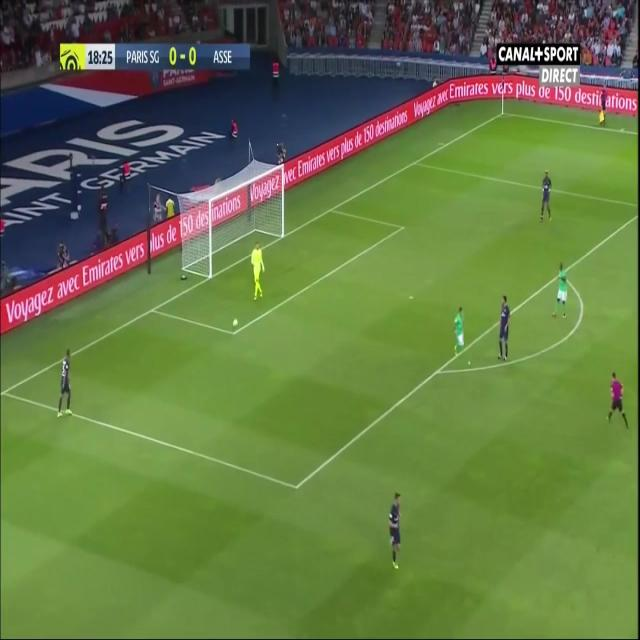Ball: (230, 315, 238, 330)
Goalkeeper: (250, 239, 266, 301)
Player: (54, 346, 76, 420), (387, 488, 404, 574), (549, 261, 571, 323), (497, 294, 512, 365), (538, 169, 554, 224), (452, 304, 467, 359)
Referee: (604, 367, 632, 434), (597, 86, 608, 129)
